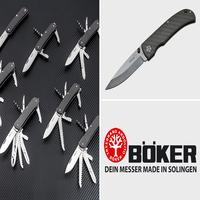knife: (103, 4, 192, 96), (66, 113, 98, 189)
